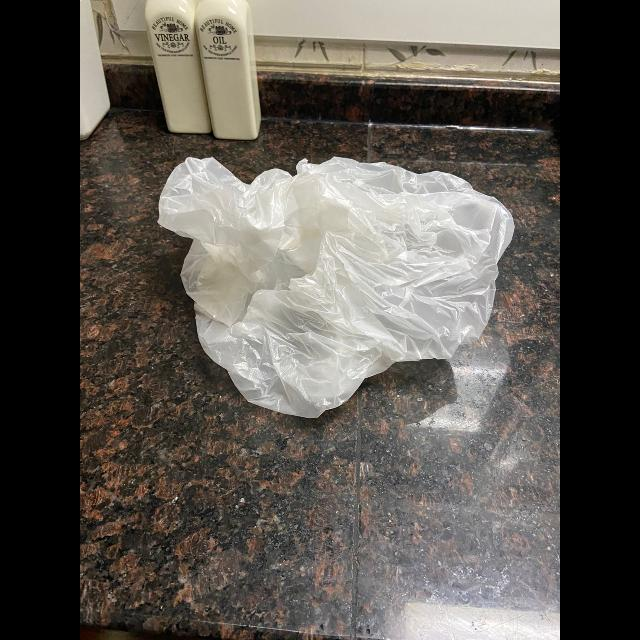plastic_bag: (155, 153, 513, 421)
